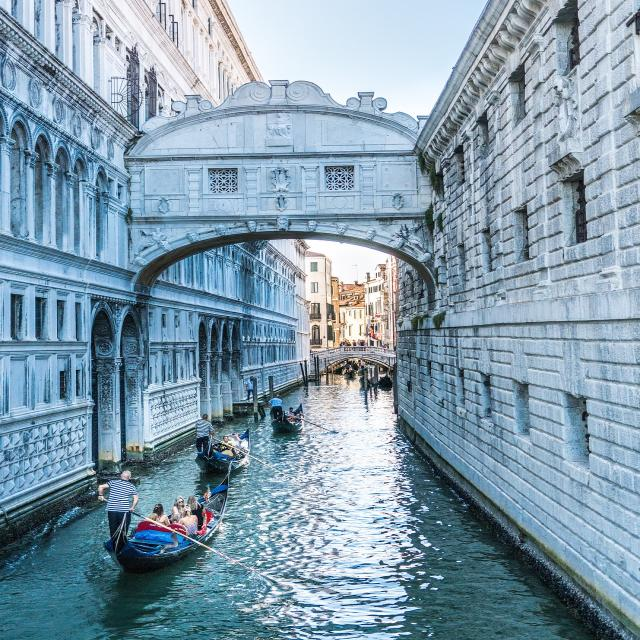boat: (103, 442, 242, 593), (187, 410, 260, 486)
